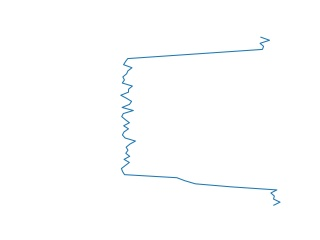distributaryChannelFill: (117, 36, 288, 204)
